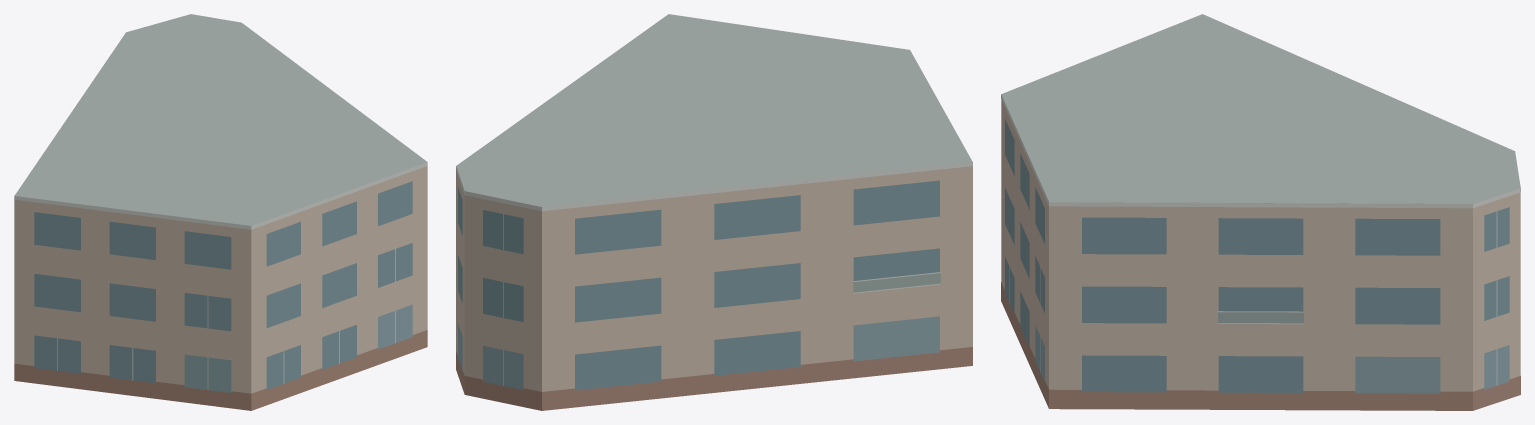
The model's file is survey-upis-32496935.glb.
3 renders of one model, left to right at view 1: azimuth 30°, elevation 25°; view 2: azimuth 150°, elevation 25°; view 3: azimuth 270°, elevation 25°, orthographic. The views are drawn at different scales.
Visible parts, largest first — view 1: survey-upis-32496935.tmp; view 2: survey-upis-32496935.tmp; view 3: survey-upis-32496935.tmp.
Boxes of the visible parts, x1,y1,x2,y2 form: survey-upis-32496935.tmp: (14,14,427,410); survey-upis-32496935.tmp: (456,14,972,410); survey-upis-32496935.tmp: (1001,14,1520,410).
Bounding box in the file's own units: 23.45 × 11.9 × 27.1.
